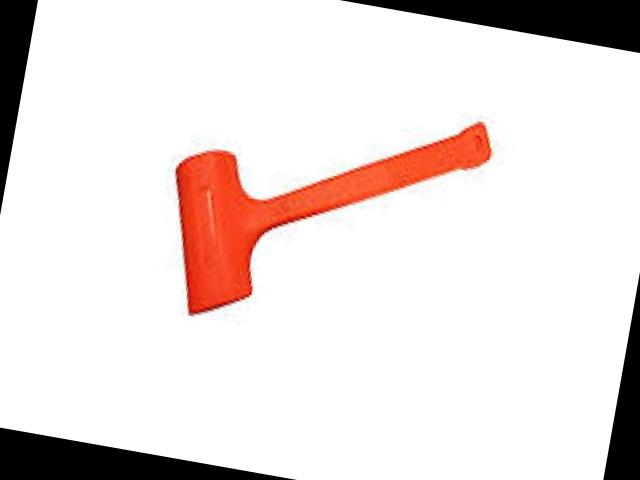hammer: (148, 71, 497, 366)
